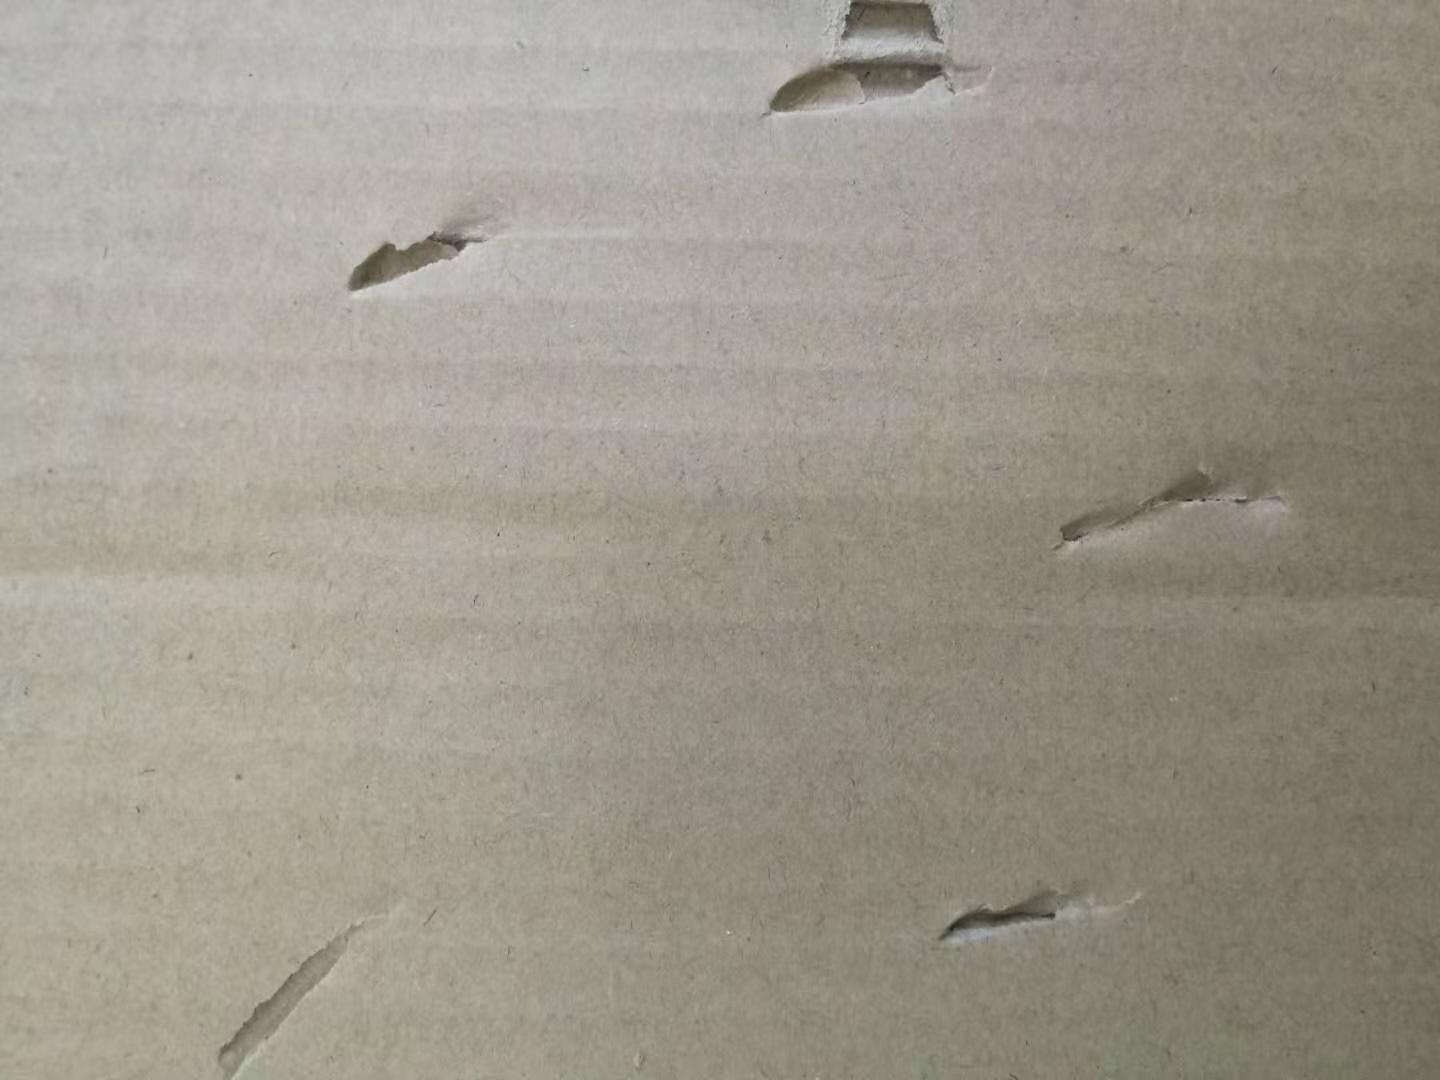defect: (183, 887, 431, 1080), (725, 1, 1045, 147), (1016, 427, 1321, 580), (324, 182, 535, 317), (916, 857, 1183, 961)
